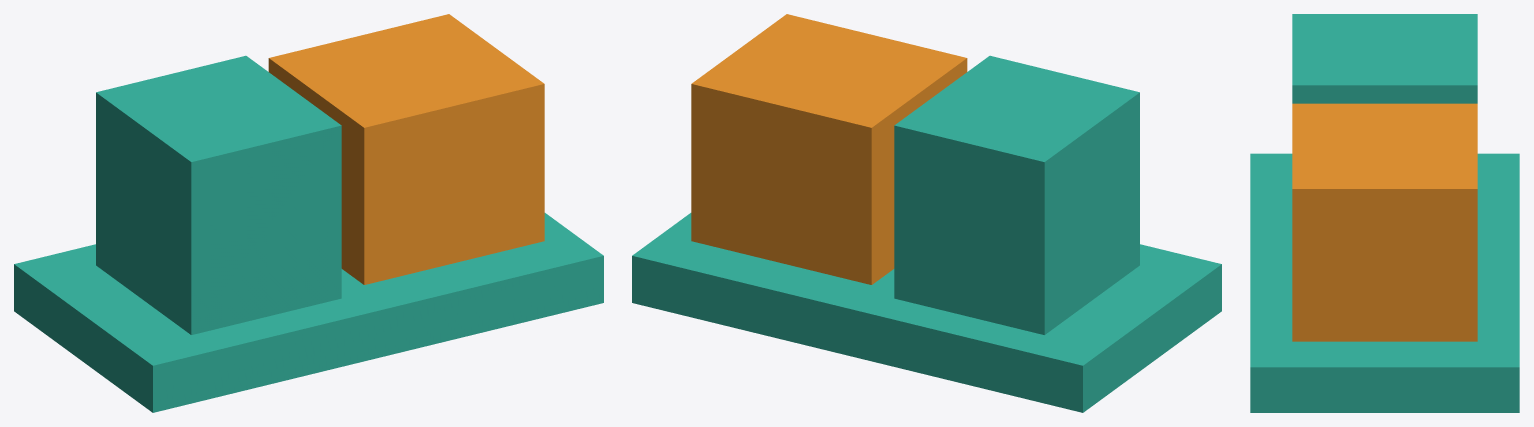
File: assembly.gltf
The picture shows the model from 3 angles, left to right: view 1: azimuth 30°, elevation 25°; view 2: azimuth 150°, elevation 25°; view 3: azimuth 270°, elevation 25°; orthographic projection. The views are drawn at different scales.
Visible parts, largest first — view 1: Motor, Housing, Base; view 2: Motor, Housing, Base; view 3: Housing, Base, Motor.
Boxes of the visible parts, x1,y1,x2,y2 form: Motor: (96,55,341,334); Housing: (268,14,544,284); Base: (14,213,603,412); Motor: (894,55,1139,334); Housing: (691,14,967,284); Base: (632,213,1221,412); Housing: (1292,103,1477,341); Base: (1250,153,1519,412); Motor: (1292,14,1477,103).
Bounding box in the file's own units: 3 × 1.4 × 1.6.
